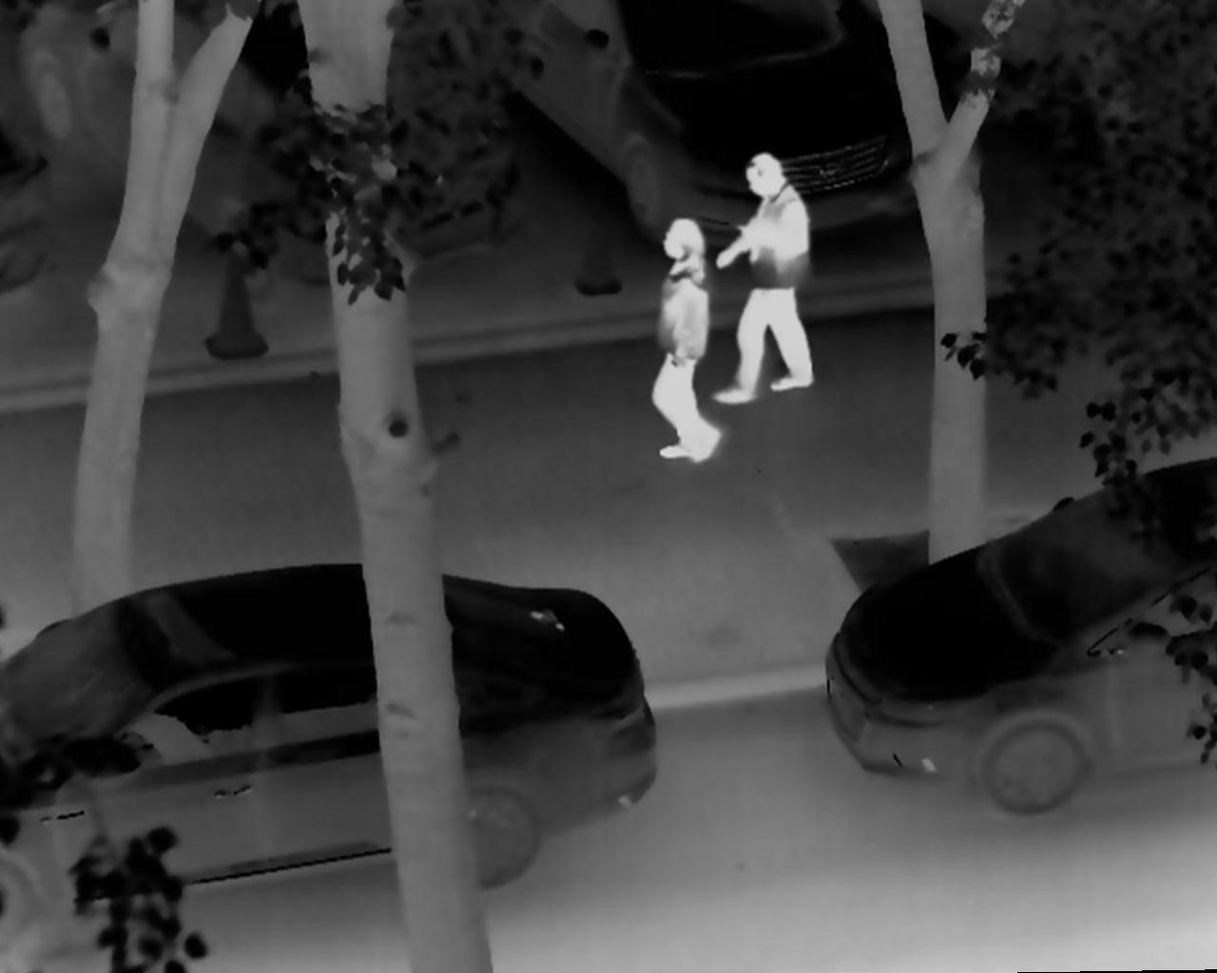person: (712, 149, 816, 407), (637, 217, 725, 470)
